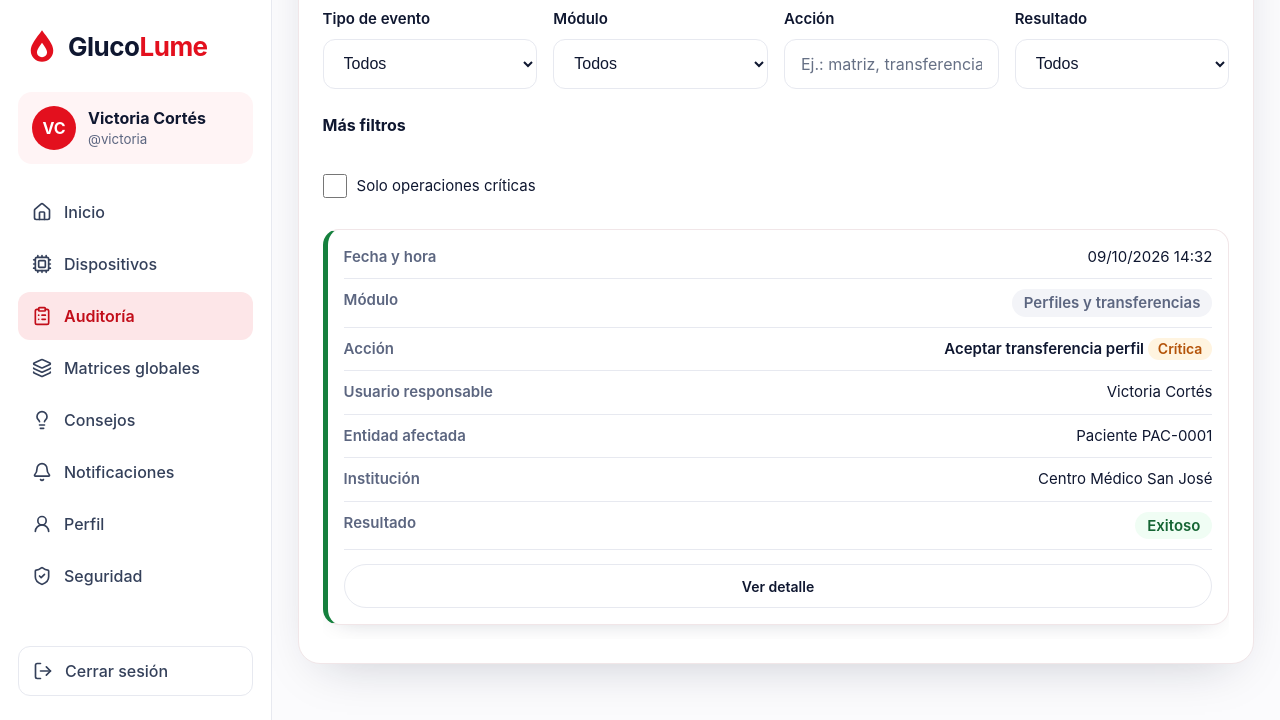
Auditoría general (administrador del sistema) › el detalle de una transferencia dice qué paciente, de qué operador y a cuál
(page scrolled)
Expected: the text "Paciente PAC-0001" is shown, [344,415,1212,458]
Step 1. Click the link "Ver detalle" → (778, 586), box [344,564,1212,608]
(page scrolled)
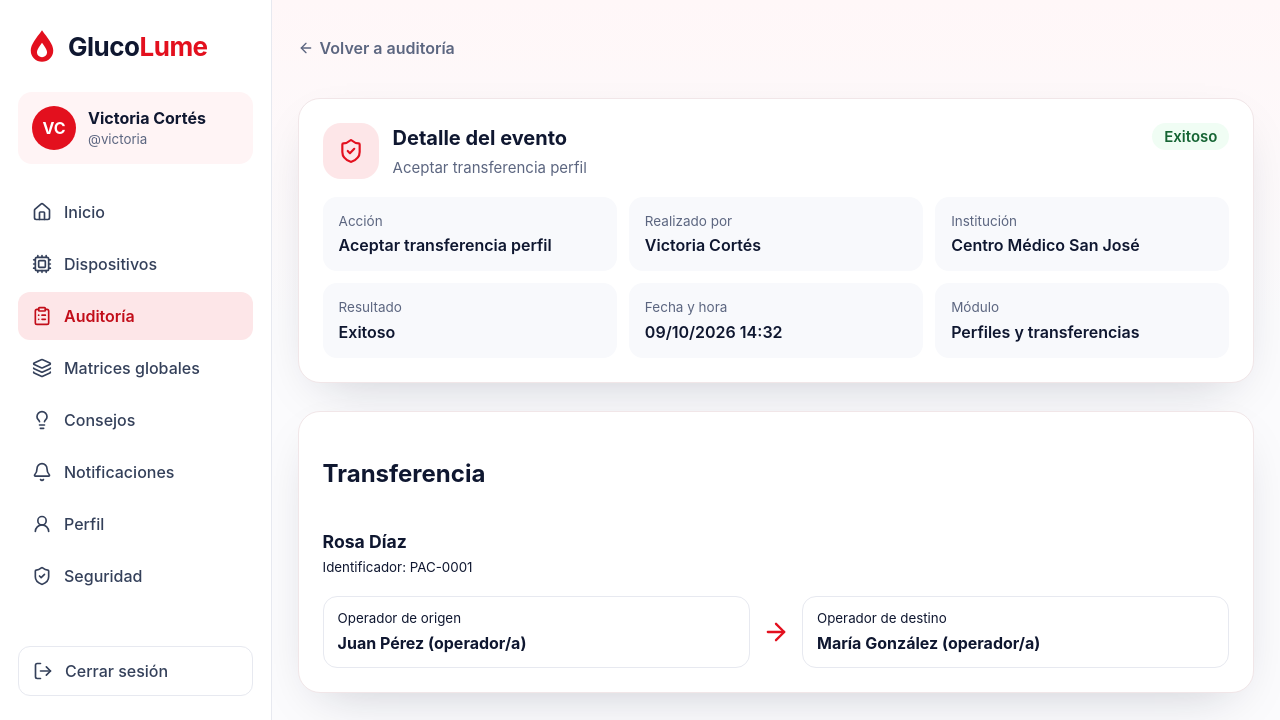
Expected: the heading "Detalle del evento" is shown, [393,123,587,153]
Expected: the text "Rosa Díaz" is shown, [323,531,407,552]
Expected: the text "Juan Pérez (operador/a)" is shown, [338,633,526,653]
